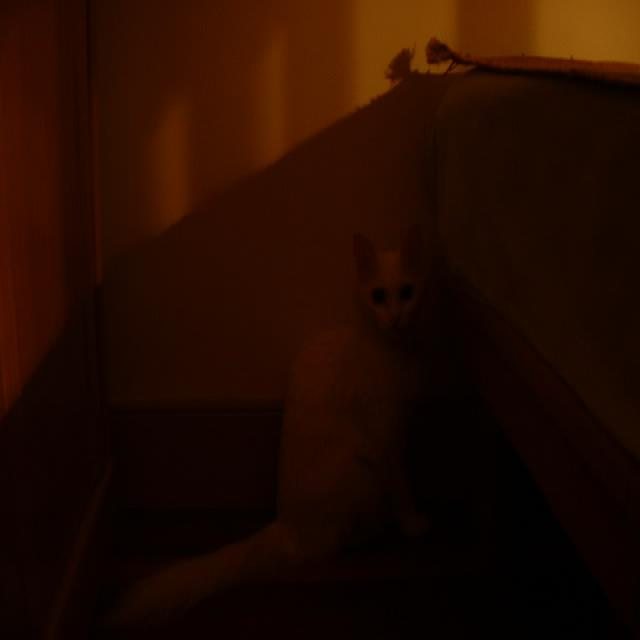Cat: (102, 184, 464, 618)
